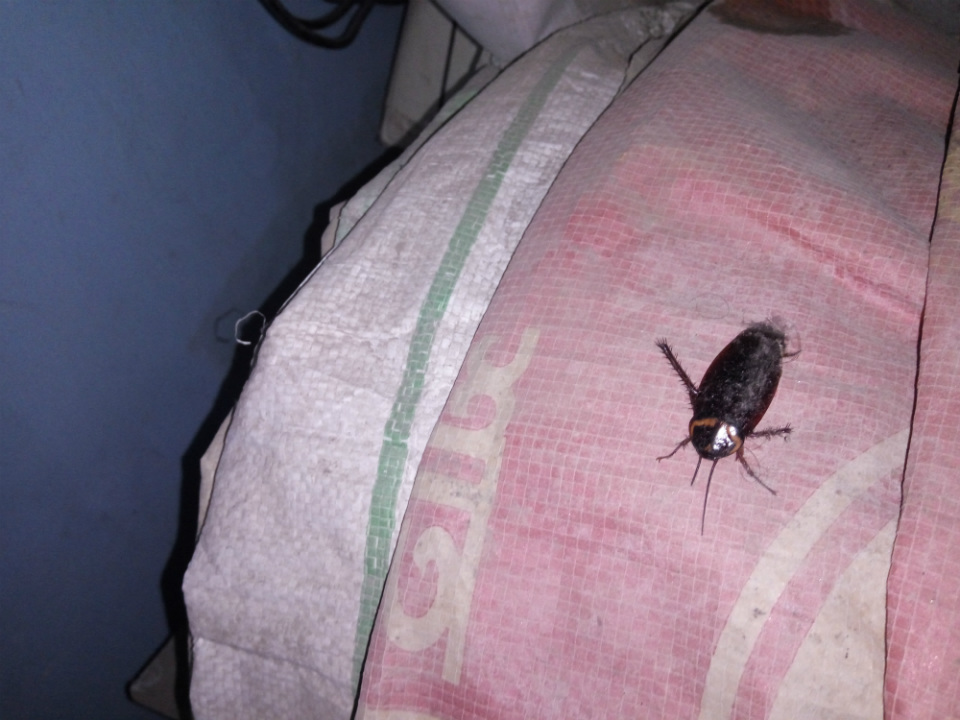cockroach: (617, 277, 847, 553)
